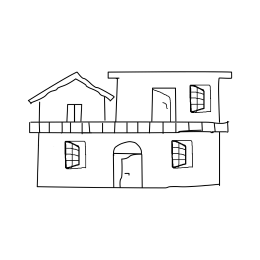door: (109, 140, 147, 191), (148, 81, 180, 125), (65, 100, 86, 125)
open_window: (64, 140, 87, 169), (170, 140, 193, 168), (191, 85, 211, 112)
roof: (24, 117, 234, 141), (26, 71, 114, 103)
single_line_roof: (107, 64, 232, 78)
wall: (33, 129, 224, 195), (113, 74, 222, 125), (35, 96, 109, 126)
